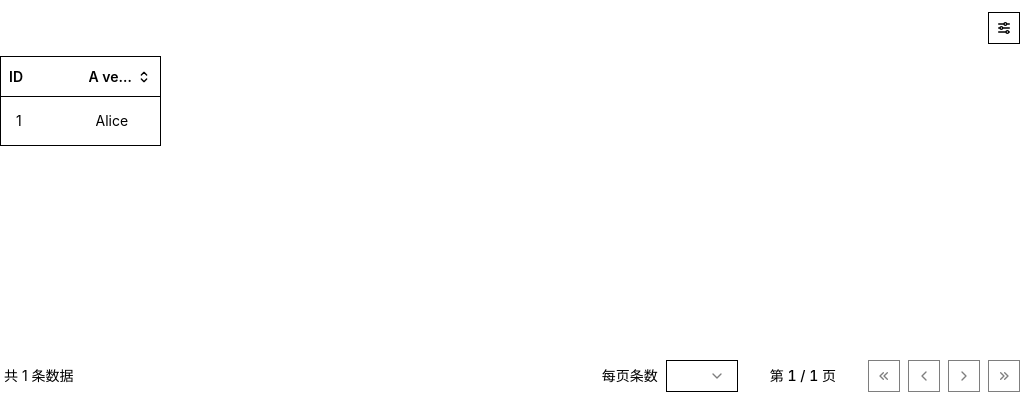
Test: DataTable body › shows the shared tooltip on the first hover of overflowing sortable header text
Hover over the button "A very long sortable customer name header" at (120, 76), box [88,60,152,92]
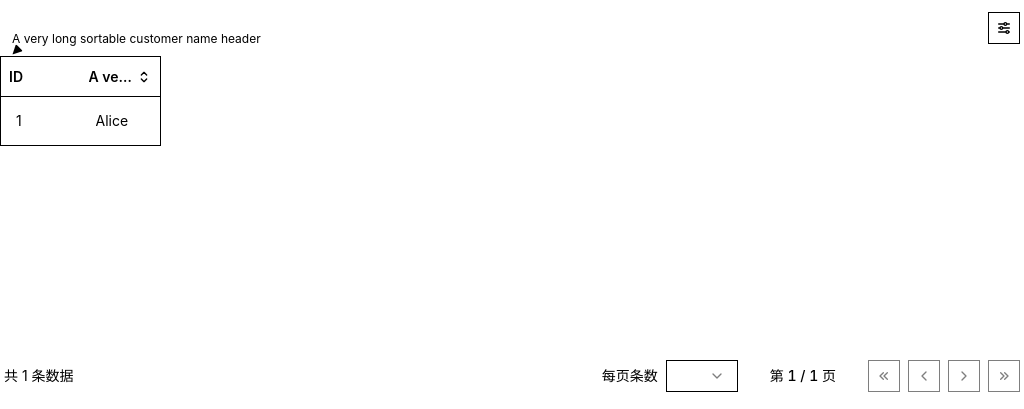
Check: the tooltip reads "A very long sortable customer name header", box [12,31,261,46]
